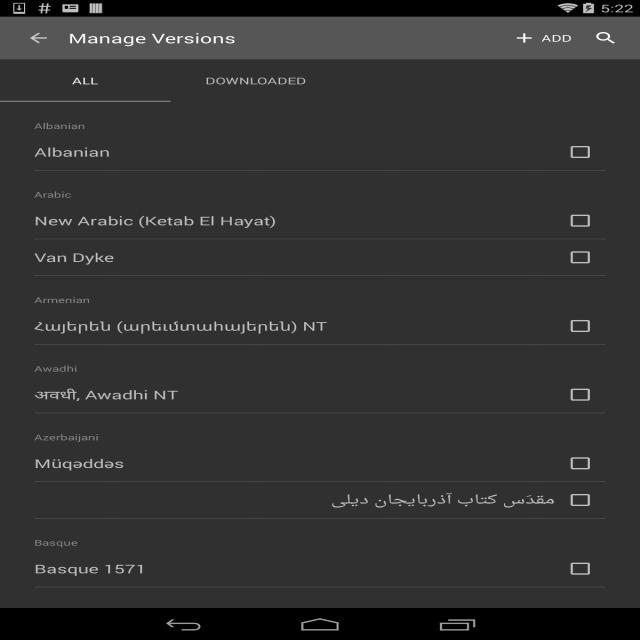Button: (34, 134, 555, 170), (34, 202, 555, 238), (34, 240, 555, 276), (34, 308, 555, 344), (34, 446, 555, 482), (34, 482, 555, 518), (34, 550, 555, 586), (34, 377, 555, 412)
CheckBox: (563, 134, 606, 170), (563, 202, 606, 238), (563, 240, 606, 276), (563, 308, 606, 344), (563, 446, 606, 482), (563, 482, 606, 518), (563, 550, 606, 586), (563, 377, 606, 412)
ImageButton: (9, 17, 68, 59)
TextView: (34, 120, 606, 132), (34, 294, 606, 306), (34, 189, 606, 200), (34, 363, 606, 374), (34, 537, 606, 548), (34, 432, 606, 442), (34, 606, 606, 616), (68, 29, 236, 47), (499, 22, 580, 54), (580, 22, 632, 54), (205, 74, 306, 87), (72, 74, 98, 87)
